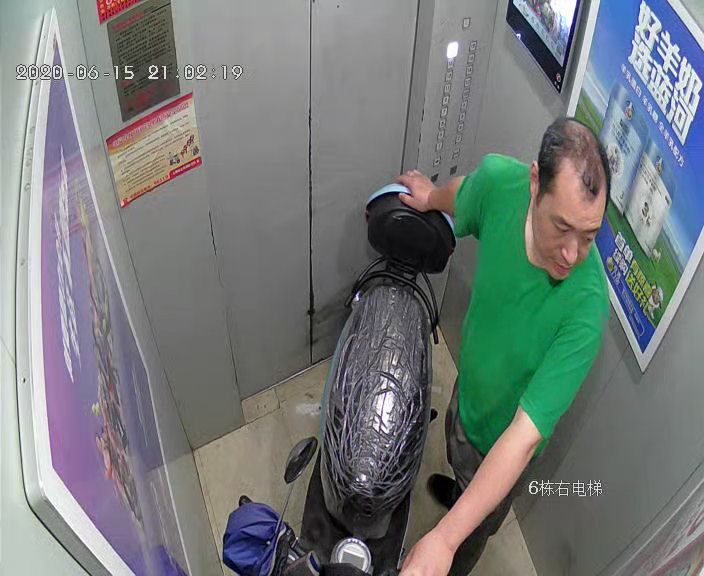Electric-bicycle: (235, 183, 452, 576)
